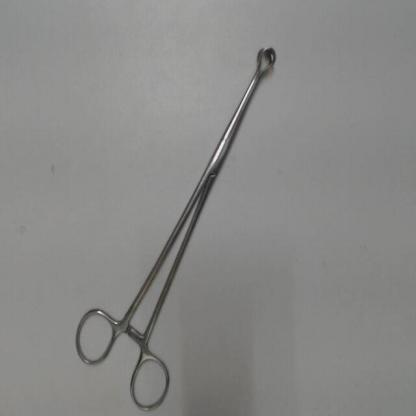8 Babcock Tissue Forceps: (70, 39, 282, 413)
